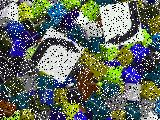Right: (27, 26, 85, 84), (98, 0, 143, 48)
